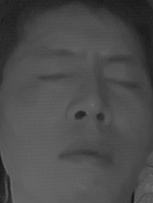blink: (103, 68, 144, 95), (32, 66, 75, 89)
mouth: (52, 135, 119, 175)
